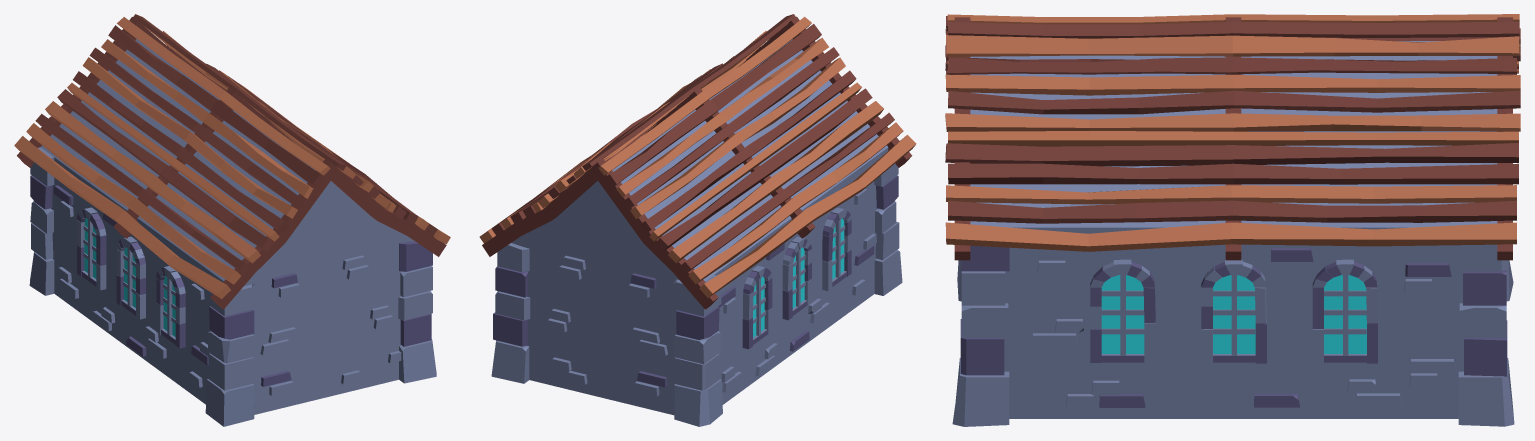
Rendered from Building_01.fbx.
3 views of the same model, side by side, from view 1: azimuth 30°, elevation 25°; view 2: azimuth 150°, elevation 25°; view 3: azimuth 270°, elevation 25° (orthographic). The views are drawn at different scales.
Parts seen in each view (by area): view 1: Building_01, Roof_Wooden; view 2: Building_01, Roof_Wooden; view 3: Roof_Wooden, Building_01.
Boxes of the visible parts, x1,y1,x2,y2 form: Building_01: [29, 39, 436, 426]; Roof_Wooden: [14, 14, 450, 309]; Building_01: [491, 39, 902, 426]; Roof_Wooden: [479, 14, 916, 309]; Roof_Wooden: [945, 14, 1520, 260]; Building_01: [952, 41, 1514, 426].
Size of the model in its own units: 716 by 702 by 1091.
